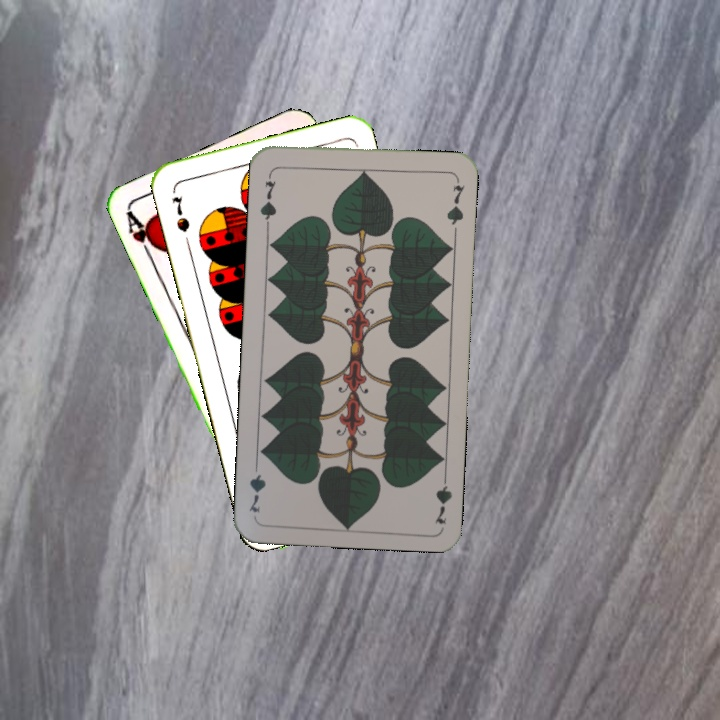G7: (430, 467, 455, 526), (256, 168, 279, 228)
HA: (122, 207, 163, 264)
S7: (167, 192, 192, 235)
